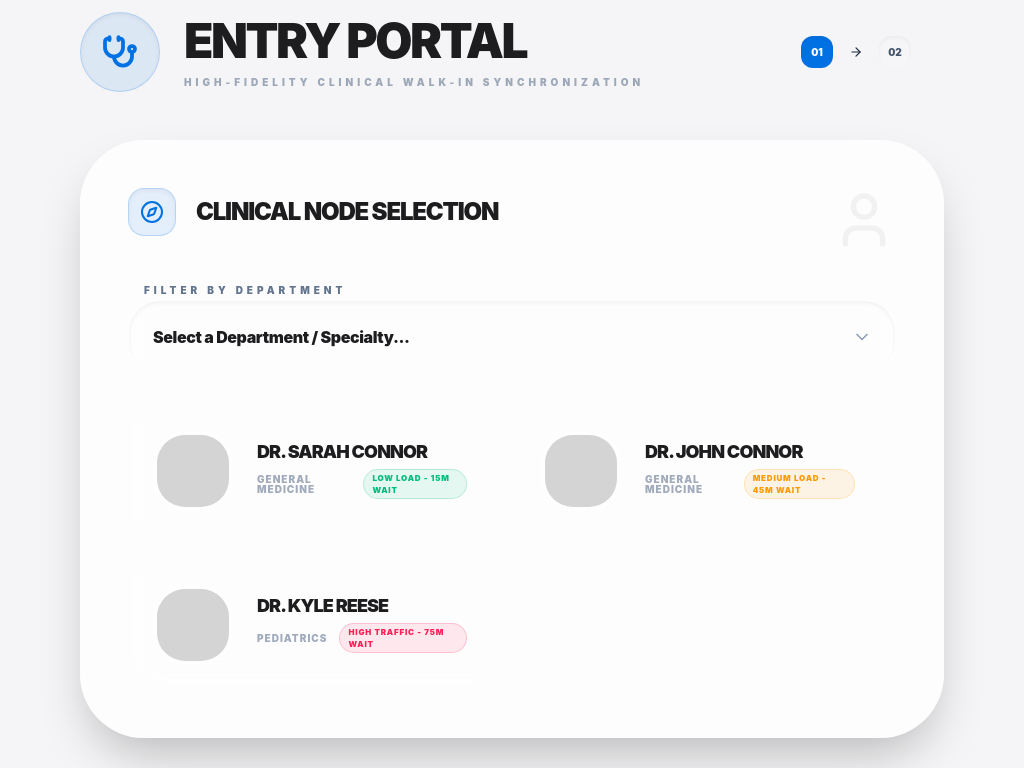
WalkinRegistration Page Component › automatically selects the doctor with the lowest wait time when department is selected
Note: Select General Medicine specialty
Select "General Medicine" in the dropdown at (512, 337), box [128,300,896,374]
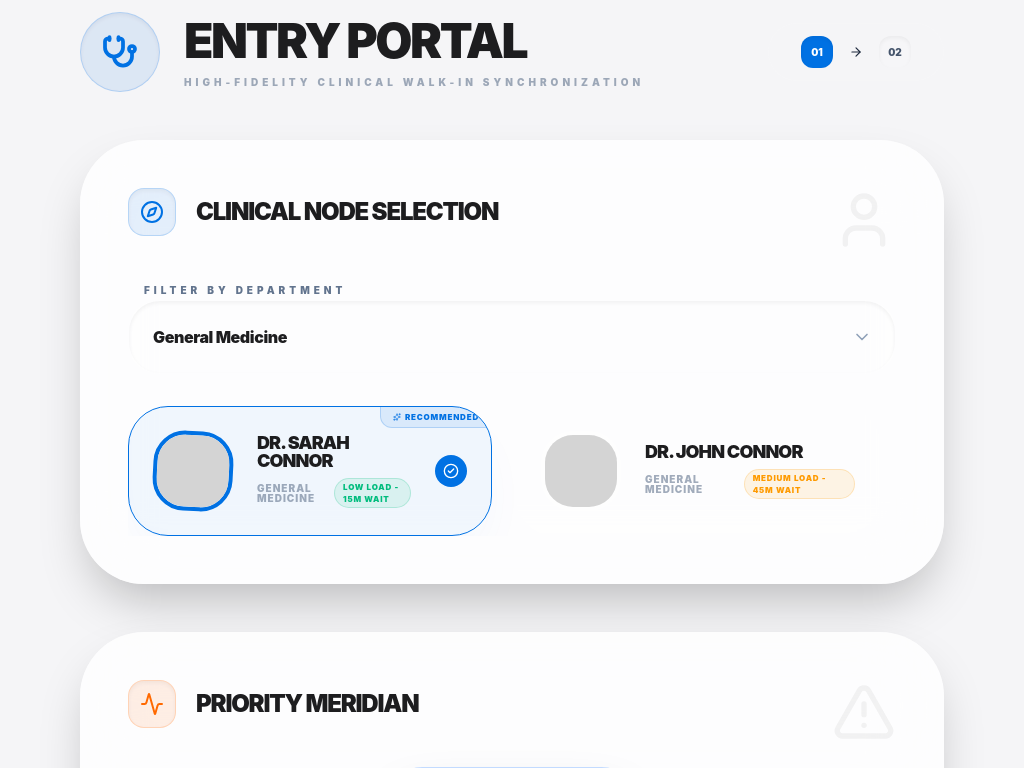
Check: the heading "Dr. Sarah Connor" is shown, box [257,432,349,471]
Check: the button "Dr. Kyle Reese" is gone
Check: the text "Recommended" is shown, box [380,407,491,428]
